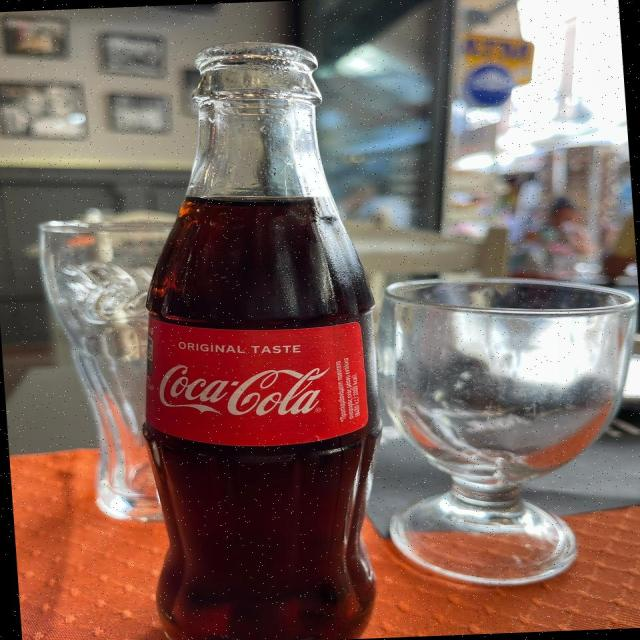coca-cola: (112, 28, 400, 640)
